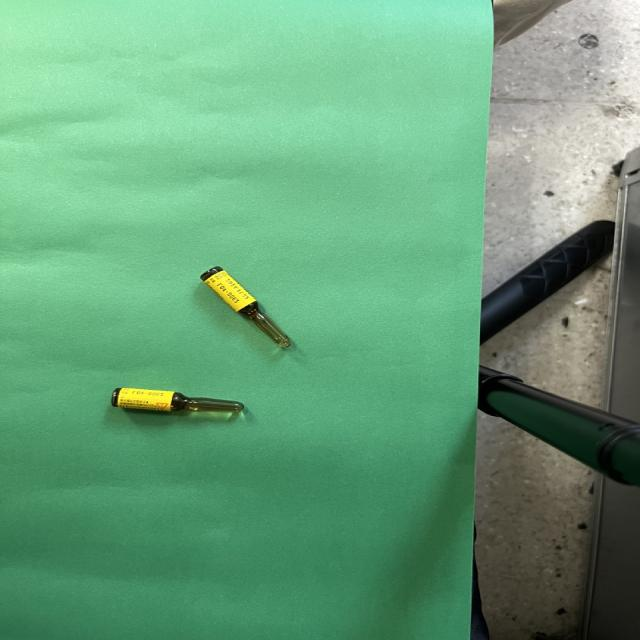Ampoules: (201, 266, 292, 348), (111, 388, 244, 414)
